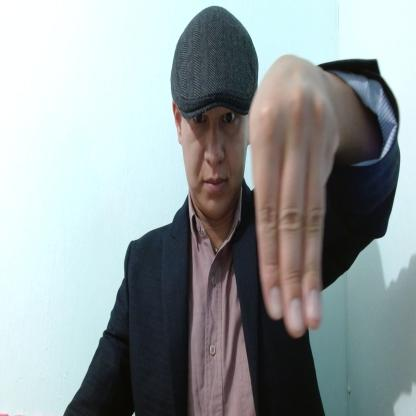M: (250, 55, 342, 339)
